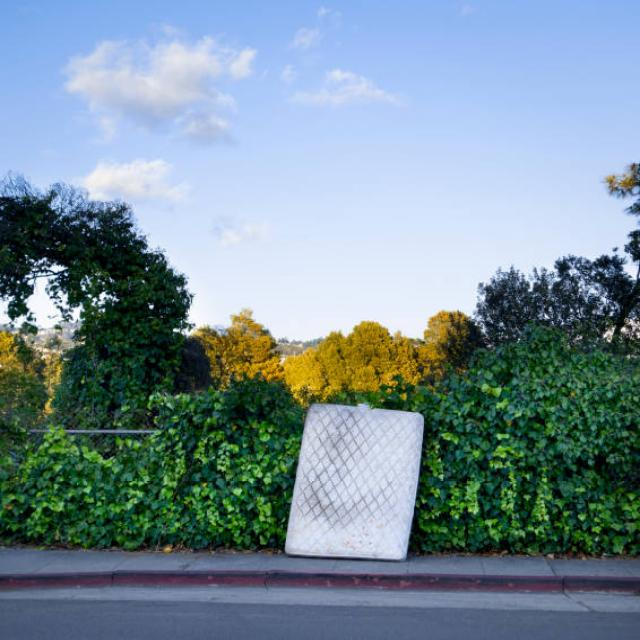plastic: (305, 411, 424, 566)
